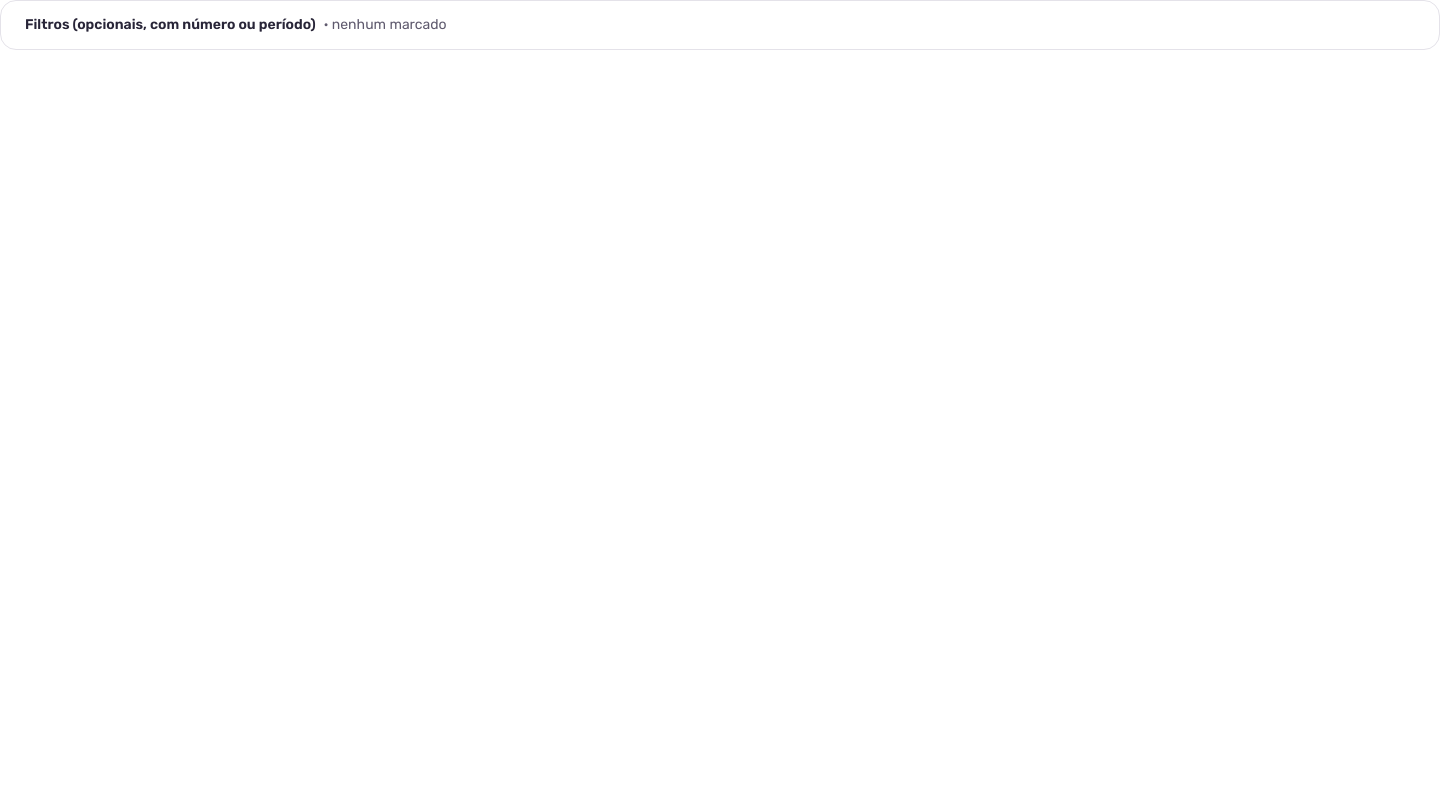
Scenario: filtros da consulta: abre e fecha pelo summary e guarda o estado entre renderizações
The width and height of the screenshot is (1440, 810).
Later steps or results of the test are not shown.
Click the heading "Filtros (opcionais, com número ou período) · nenhum marcado" at (236, 24), box left=25, top=16, right=447, bottom=33
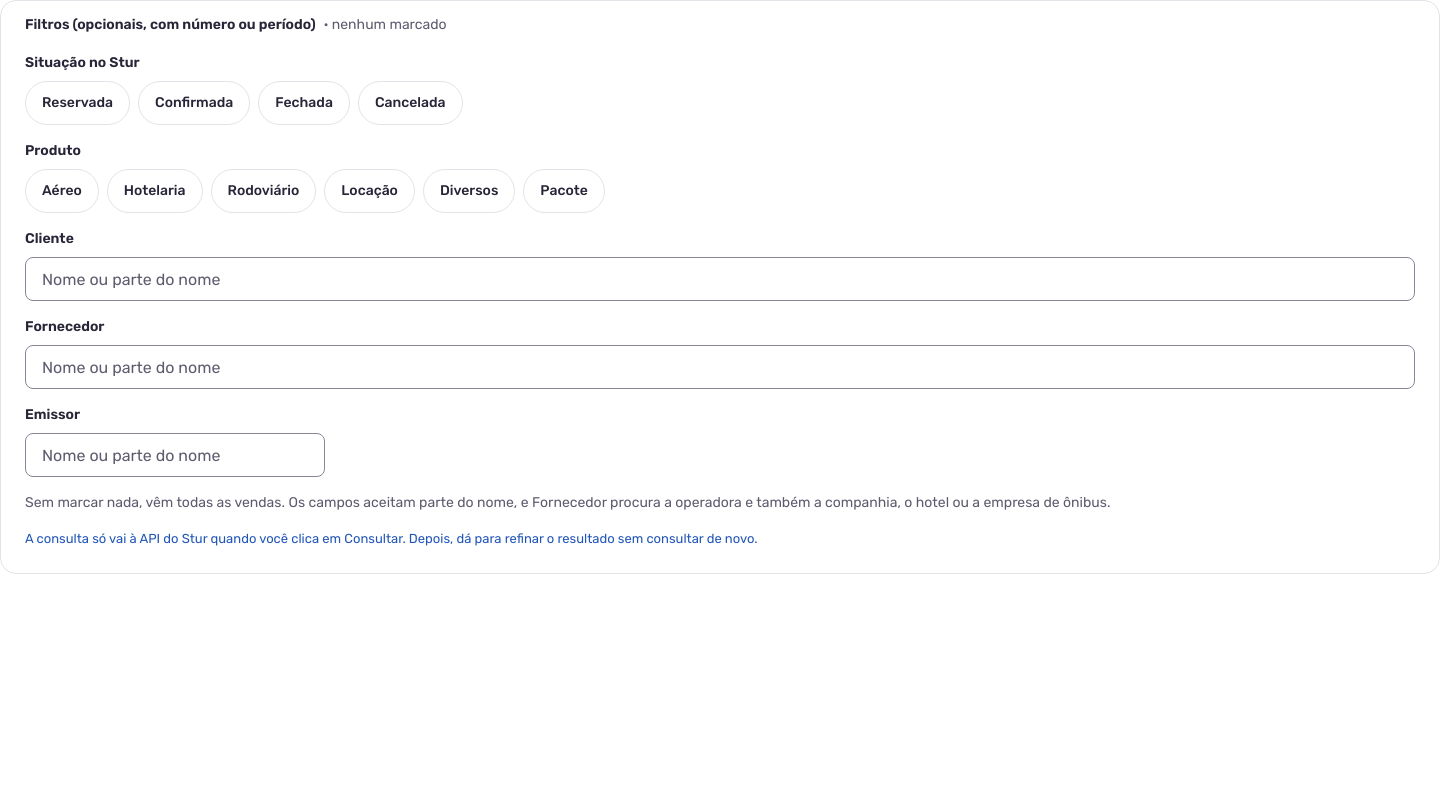
Now the text "Filtros (opcionais, com número ou período)" has attribute open
